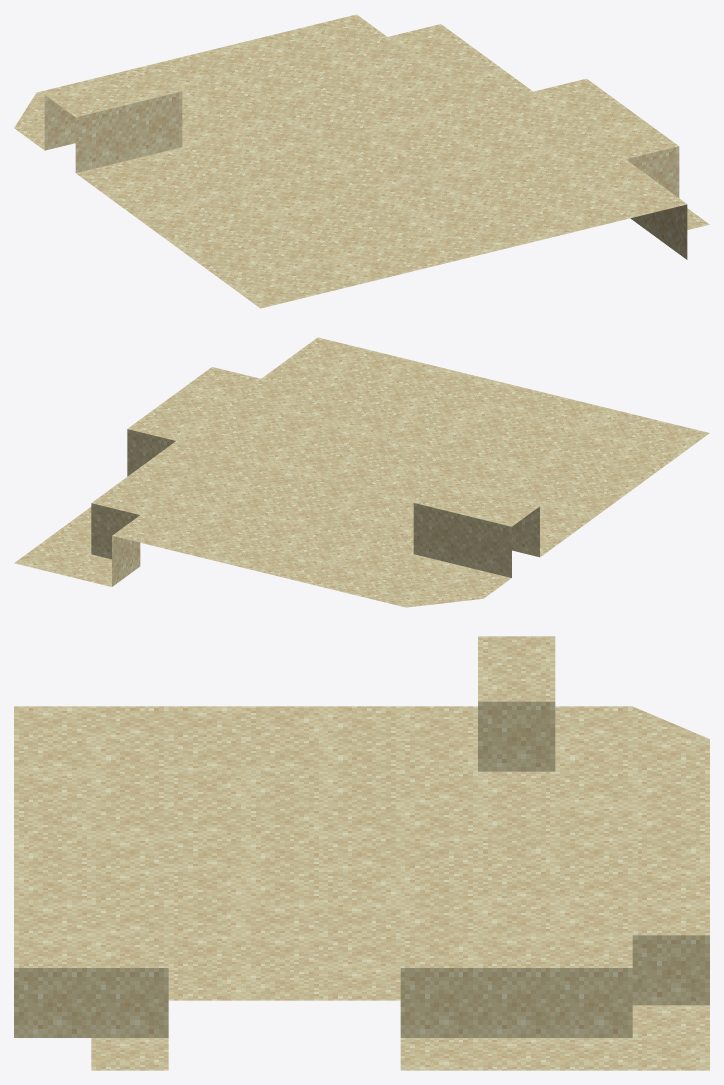
File: Sand_Chunk_6_24.fbx
3 views of the same model, one above another, from view 1: azimuth 30°, elevation 25°; view 2: azimuth 150°, elevation 25°; view 3: azimuth 270°, elevation 25° (orthographic). The views are drawn at different scales.
Parts seen in each view (by area): view 1: Sand_Chunk_6_24; view 2: Sand_Chunk_6_24; view 3: Sand_Chunk_6_24.
Boxes of the visible parts, x1,y1,x2,y2 form: Sand_Chunk_6_24: (14,14,709,308); Sand_Chunk_6_24: (14,337,709,607); Sand_Chunk_6_24: (14,636,709,1070).
Bounding box in the file's own units: 900 × 200 × 900.
Materials: 1 (1 with a texture image).
